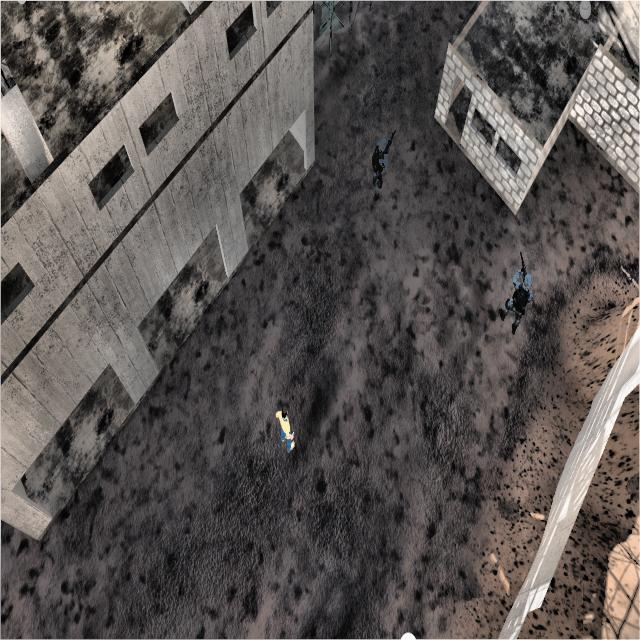bad: (499, 243, 535, 344), (365, 128, 397, 206)
good: (272, 386, 303, 464)
